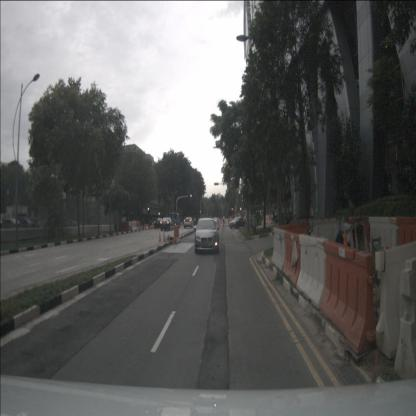human-pedestrian-adult: (222, 214, 226, 226)
movable_object-barrier: (321, 242, 376, 350), (376, 242, 416, 380), (270, 226, 327, 310), (271, 214, 367, 263), (368, 215, 416, 272), (172, 224, 180, 246), (127, 220, 141, 232)
movable_object-trafficcone: (158, 227, 162, 244), (162, 227, 166, 243)
vehicle-car: (195, 218, 219, 253), (1, 219, 24, 234), (15, 217, 36, 233), (271, 210, 291, 223), (228, 216, 246, 229), (160, 218, 174, 232), (249, 210, 264, 222), (184, 217, 194, 229), (154, 218, 164, 229)
vehicle-truck: (169, 213, 180, 229)
